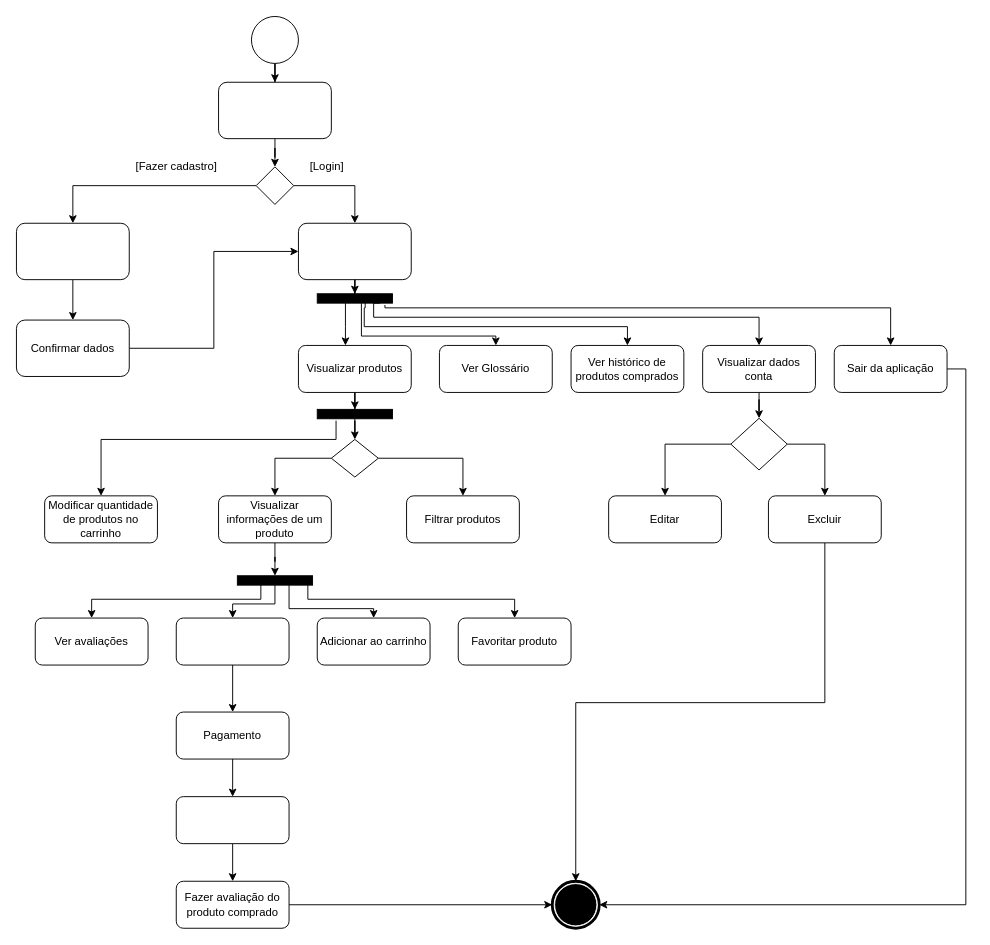
Some shapes in this 990 by 945 pixel diagram are drawn without their labels. Each missing label, with the box of its shape:
Acompanhar pedido: (175, 796, 289, 844)
Comprar: (175, 617, 289, 665)
Fazer login: (298, 222, 411, 280)
Informar dados: (16, 222, 129, 280)
Logar ou fazer cadastro: (218, 81, 331, 139)
